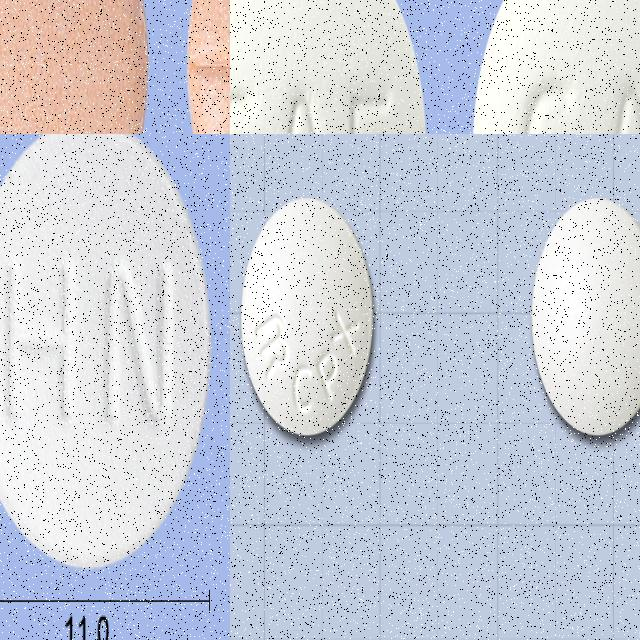Aclova: (0, 0, 150, 134)
Ciflox-Q: (230, 0, 429, 134), (470, 0, 640, 134)
Ciprofloxacin Tab- Mirae: (240, 194, 376, 440), (529, 188, 640, 438)
Cipron: (0, 134, 214, 572)
